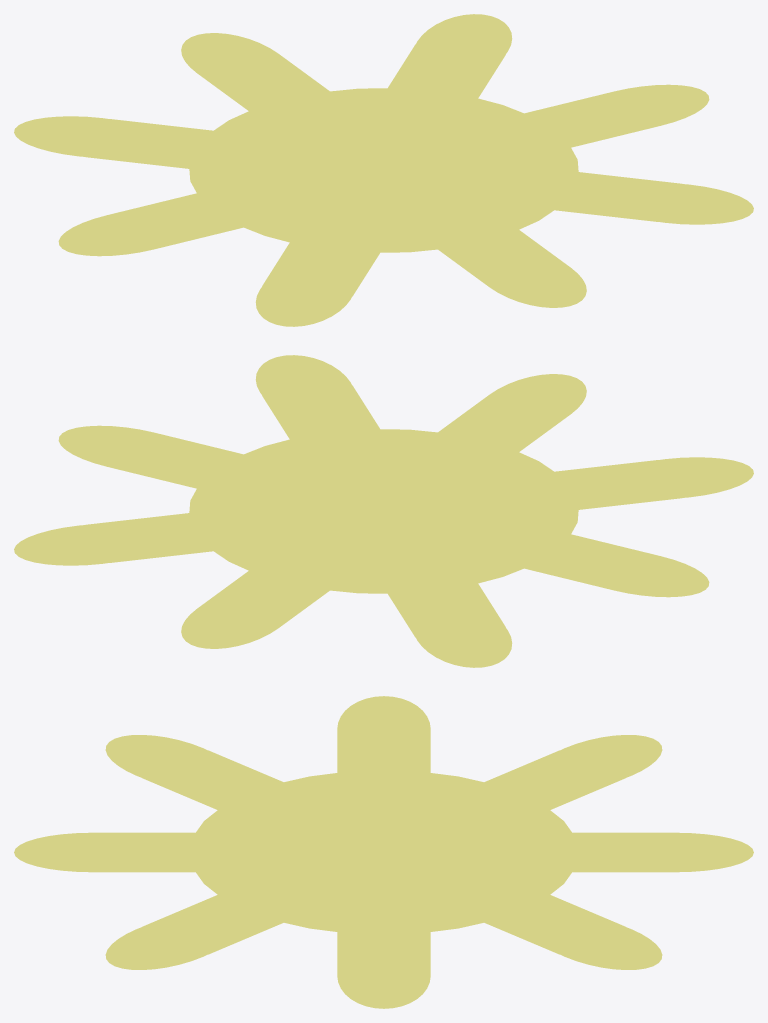
File: field.obj
3 views of the same model, one above another, from view 1: azimuth 30°, elevation 25°; view 2: azimuth 150°, elevation 25°; view 3: azimuth 270°, elevation 25° (orthographic).
Parts seen in each view (by area): view 1: 円; view 2: 円; view 3: 円.
Part boxes in pixels (<box>): 円: <box>14,14,753,326</box>; 円: <box>14,355,753,667</box>; 円: <box>14,696,753,1008</box>.
Size of the model in its own units: 190 by 3e-05 by 190.
1 material, 1 textured.
